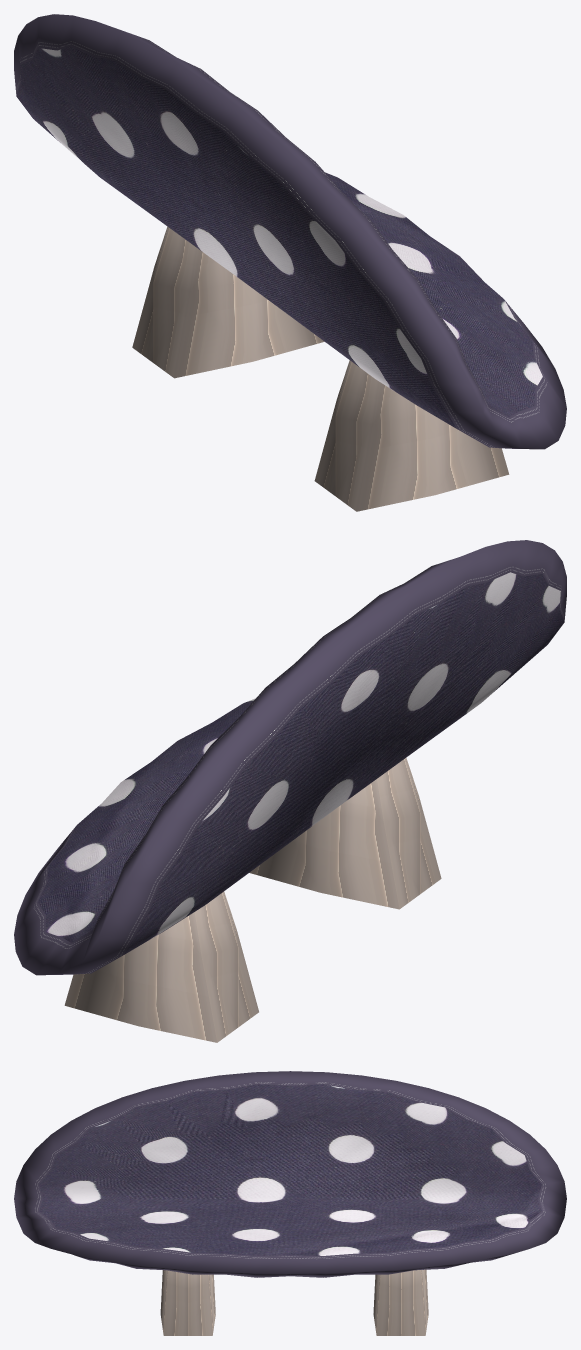
The model's file is HUBSofa2.fbx.
3 renders of one model, top to bottom at view 1: azimuth 30°, elevation 25°; view 2: azimuth 150°, elevation 25°; view 3: azimuth 270°, elevation 25°, orthographic. The views are drawn at different scales.
Visible parts, largest first — view 1: pCylinder2, pCube1, pCube2; view 2: pCylinder2, pCube2, pCube1; view 3: pCylinder2, pCube2, pCube1.
Boxes of the visible parts, <box> form: pCylinder2: <box>14,14,566,449</box>; pCube1: <box>314,360,509,511</box>; pCube2: <box>132,226,324,378</box>; pCylinder2: <box>14,540,566,975</box>; pCube2: <box>64,891,258,1042</box>; pCube1: <box>249,758,441,909</box>; pCylinder2: <box>14,1071,566,1277</box>; pCube2: <box>373,1269,428,1335</box>; pCube1: <box>160,1270,215,1335</box>.
Bounding box in the file's own units: 104 × 141 × 338.
